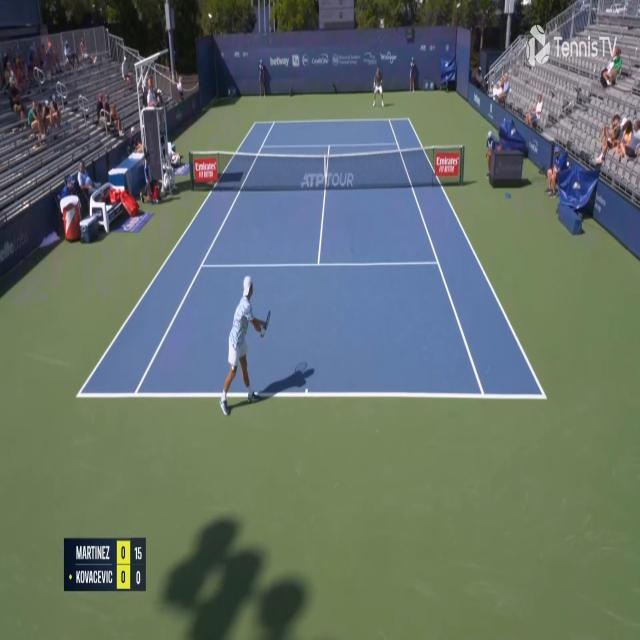tennis-player: (216, 272, 272, 418), (371, 64, 386, 109)
